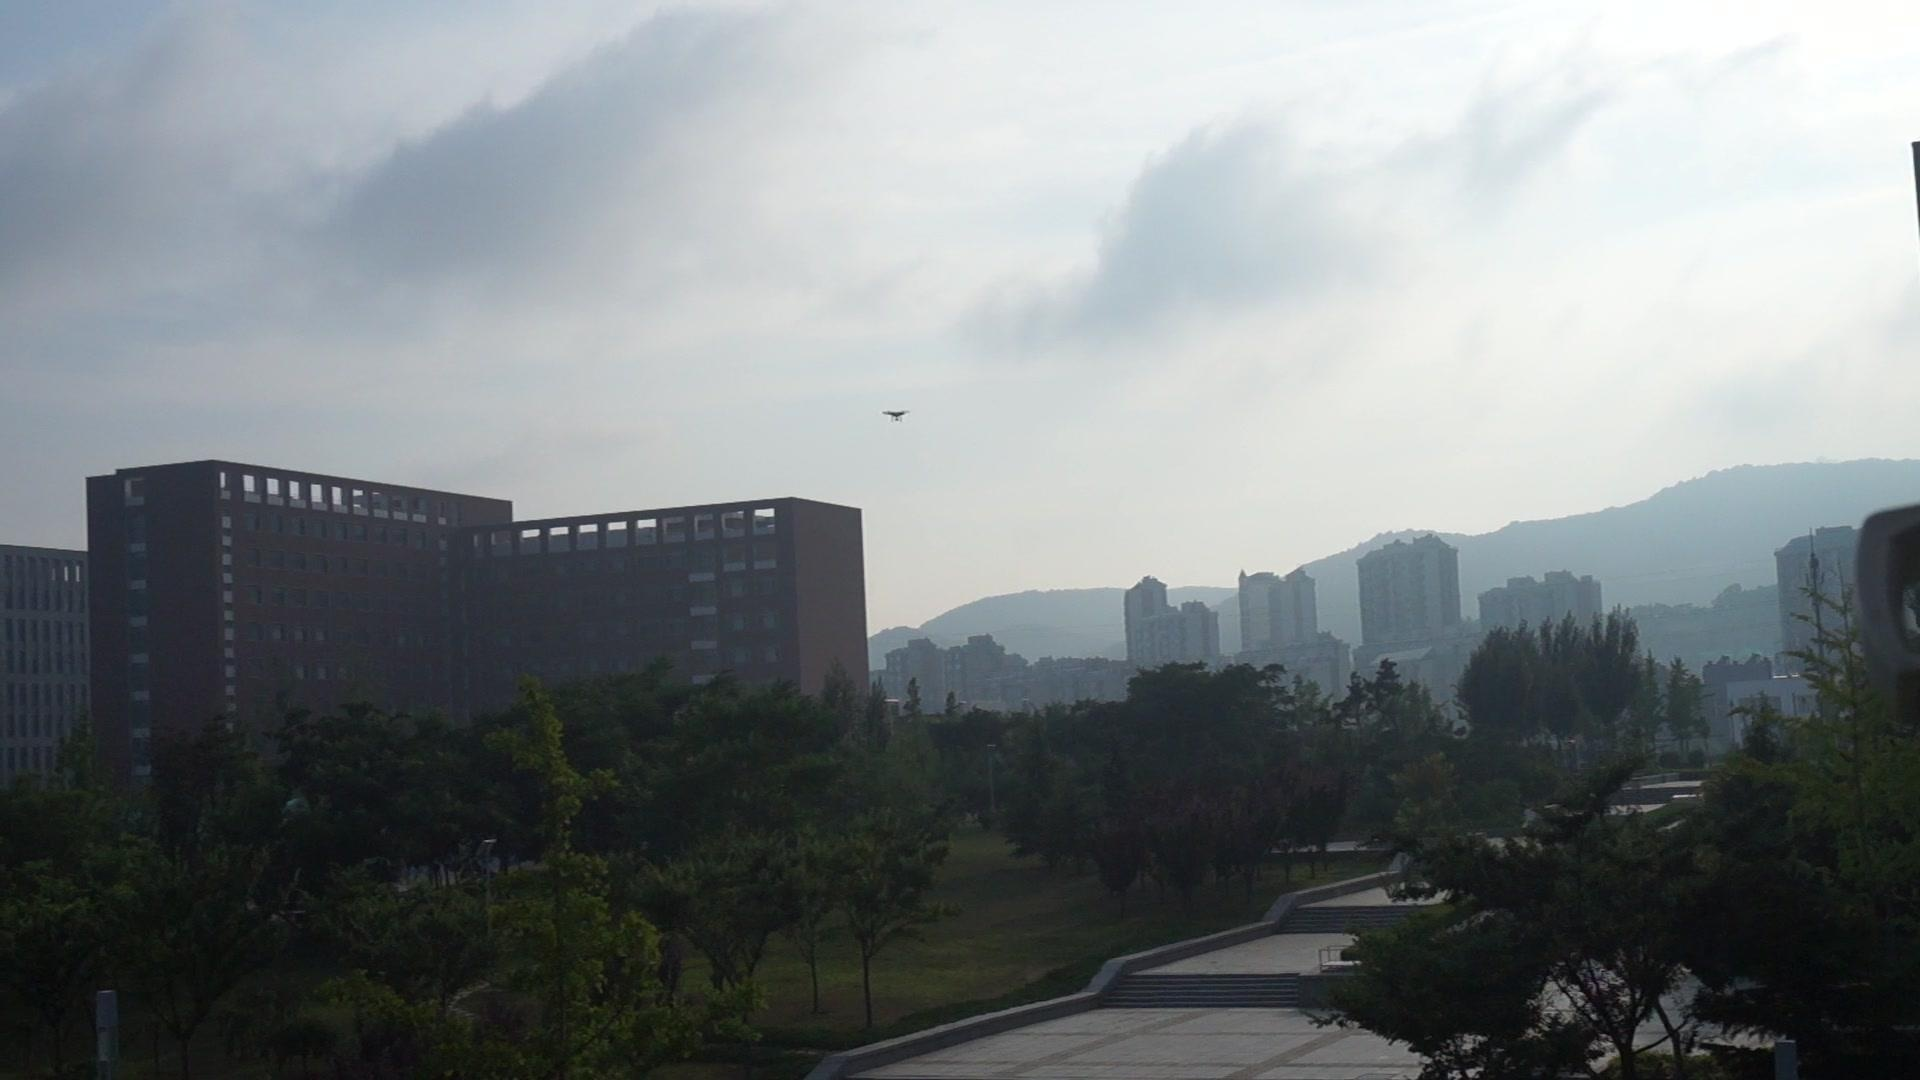UAV: (884, 411, 913, 423)
